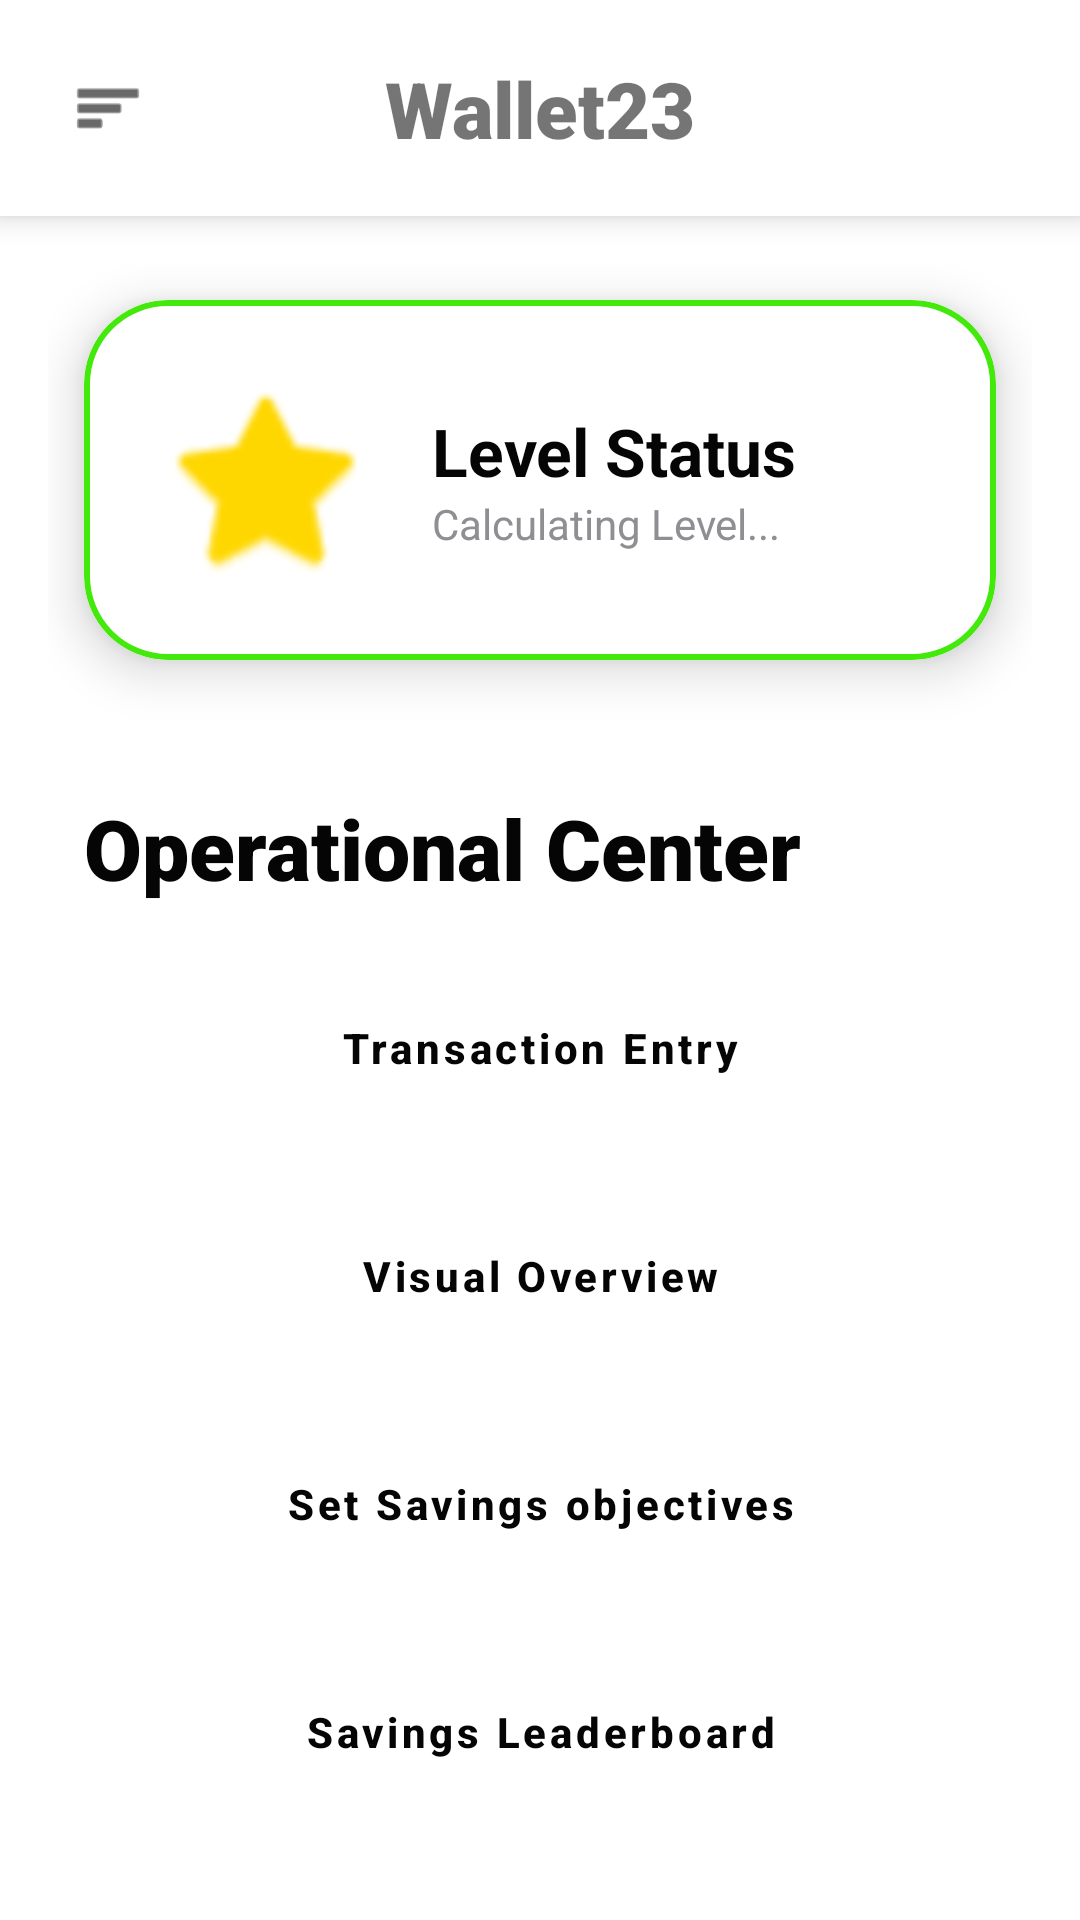

Icon click points for this 1080*1920 phone screenshot, format [x,y]:
sort by size: [108,108]
star on: [265,482]
